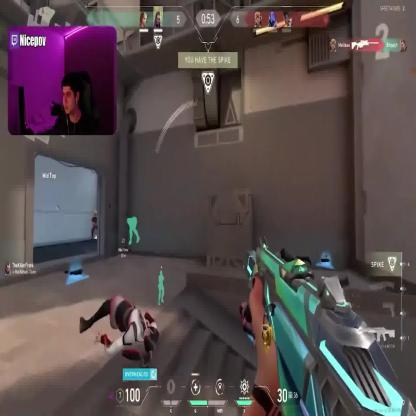enemy: (90, 210, 100, 241)
enemy_head: (94, 210, 99, 218)
